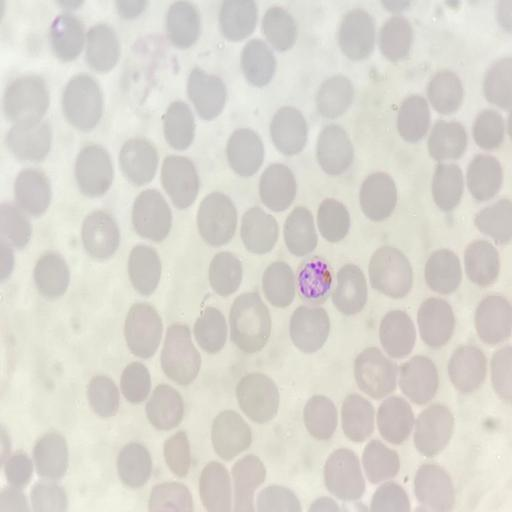Infected: (295, 257, 335, 303)
Uninfected: (127, 33, 177, 104), (228, 290, 273, 349), (369, 247, 416, 300), (195, 192, 240, 246), (61, 75, 105, 130), (186, 70, 232, 122), (234, 372, 280, 423), (159, 325, 200, 382), (129, 190, 173, 242), (322, 447, 366, 499), (352, 347, 397, 397), (123, 304, 164, 358), (6, 113, 53, 160), (3, 75, 49, 123), (73, 144, 115, 195), (159, 156, 201, 206), (228, 455, 267, 508), (415, 298, 456, 348), (413, 403, 454, 453), (269, 105, 309, 156), (209, 410, 252, 457), (239, 205, 281, 253), (336, 9, 376, 59), (126, 244, 165, 295), (225, 129, 267, 176), (377, 308, 417, 357), (288, 305, 330, 351), (398, 354, 439, 401), (423, 248, 463, 296), (360, 173, 399, 222), (473, 293, 511, 343), (257, 164, 298, 210), (338, 393, 377, 441), (240, 39, 278, 88), (145, 385, 186, 430), (118, 138, 159, 183), (374, 395, 413, 442), (473, 197, 512, 244), (361, 438, 400, 485), (316, 125, 354, 173), (462, 239, 500, 287), (430, 163, 467, 212), (81, 212, 121, 257), (13, 169, 52, 215), (301, 394, 340, 440), (161, 101, 199, 148), (32, 432, 70, 479), (447, 345, 485, 392), (332, 264, 369, 312), (206, 252, 245, 297), (465, 153, 503, 199), (198, 463, 235, 510), (282, 206, 318, 254), (313, 76, 354, 118), (426, 119, 467, 161), (482, 57, 512, 114), (49, 15, 87, 60), (82, 25, 119, 71), (33, 252, 70, 298), (116, 441, 153, 487), (395, 95, 431, 142), (315, 198, 352, 243), (193, 307, 229, 353), (414, 465, 453, 507), (260, 8, 298, 51), (261, 261, 297, 306), (218, 1, 258, 41), (164, 3, 202, 45), (378, 16, 413, 61), (0, 204, 33, 250), (427, 71, 464, 112), (87, 374, 121, 417), (162, 431, 194, 475), (471, 110, 506, 150), (119, 362, 153, 403), (369, 482, 411, 512), (254, 484, 300, 511), (147, 482, 192, 509), (29, 482, 67, 510), (5, 452, 35, 487)
